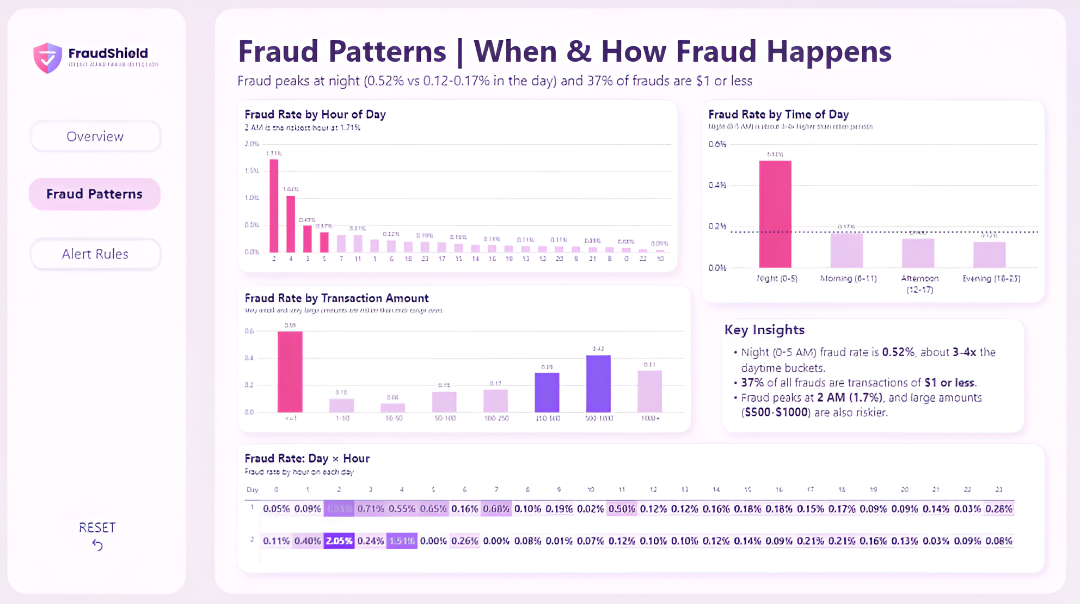

This screenshot's page, from the dashboard's own definition file:
{"tool":"powerbi","page":{"name":"Fraud Patterns","canvas":[2560,1440],"ordinal":1},"visuals":[{"type":"shape","box":[28.2,25.6,420.5,1379.5],"z":0},{"type":"shape","box":[515.4,25.6,2007.7,1379.5],"z":1000},{"type":"image","box":[71.8,84.6,325.6,117.9],"z":2000},{"type":"pageNavigator","box":[71.8,279.5,325.6,369.2],"z":3000},{"type":"actionButton","box":[133.3,1217.9,212.8,97.4],"z":4000},{"type":"textbox","title":"Fraud Patterns | When & How Fraud Happens","box":[569.3,73.6,1565.7,154.6],"z":5000},{"type":"clusteredColumnChart","title":"Fraud Rate by Hour of Day","fields":{"Category":["fraud_clean.hour"],"Y":["_Measures.Fraud Rate"]},"box":[569.2,241,1038.5,407.7],"z":6000},{"type":"clusteredColumnChart","title":"Fraud Rate by Time of Day","fields":{"Category":["fraud_clean.time_bucket"],"Y":["_Measures.Fraud Rate"]},"box":[1661.5,241,810.3,479.5],"z":7000},{"type":"clusteredColumnChart","title":"Fraud Rate by Transaction Amount","fields":{"Category":["amount_band_summary.amount_band"],"Y":["Sum(amount_band_summary.fraud_rate_pct)"]},"box":[569.2,676.9,1069.2,348.7],"z":8000},{"type":"pivotTable","title":"Fraud Rate: Day × Hour","fields":{"Columns":["fraud_clean.hour"],"Rows":["fraud_clean.day"],"Values":["_Measures.Fraud Rate"]},"box":[569.2,1051.3,1902.6,305.1],"z":9000},{"type":"textbox","title":"Key Insights","box":[1710.3,756.4,712.8,269.2],"z":10000}]}

Visuals, with their boxes on the page's 2560x1440 design canvas (x1, y1, x2, y2). These are canvas units, not pixel positions in the 1080x604 screenshot, which may show the page scaled, cropped or inside an application window:
shape: <region>28, 26, 449, 1405</region>
shape: <region>515, 26, 2523, 1405</region>
image: <region>72, 85, 397, 202</region>
pageNavigator: <region>72, 280, 397, 649</region>
actionButton: <region>133, 1218, 346, 1315</region>
"Fraud Patterns | When & How Fraud Happens" textbox: <region>569, 74, 2135, 228</region>
"Fraud Rate by Hour of Day" clusteredColumnChart: <region>569, 241, 1608, 649</region>
"Fraud Rate by Time of Day" clusteredColumnChart: <region>1662, 241, 2472, 720</region>
"Fraud Rate by Transaction Amount" clusteredColumnChart: <region>569, 677, 1638, 1026</region>
"Fraud Rate: Day × Hour" pivotTable: <region>569, 1051, 2472, 1356</region>
"Key Insights" textbox: <region>1710, 756, 2423, 1026</region>
